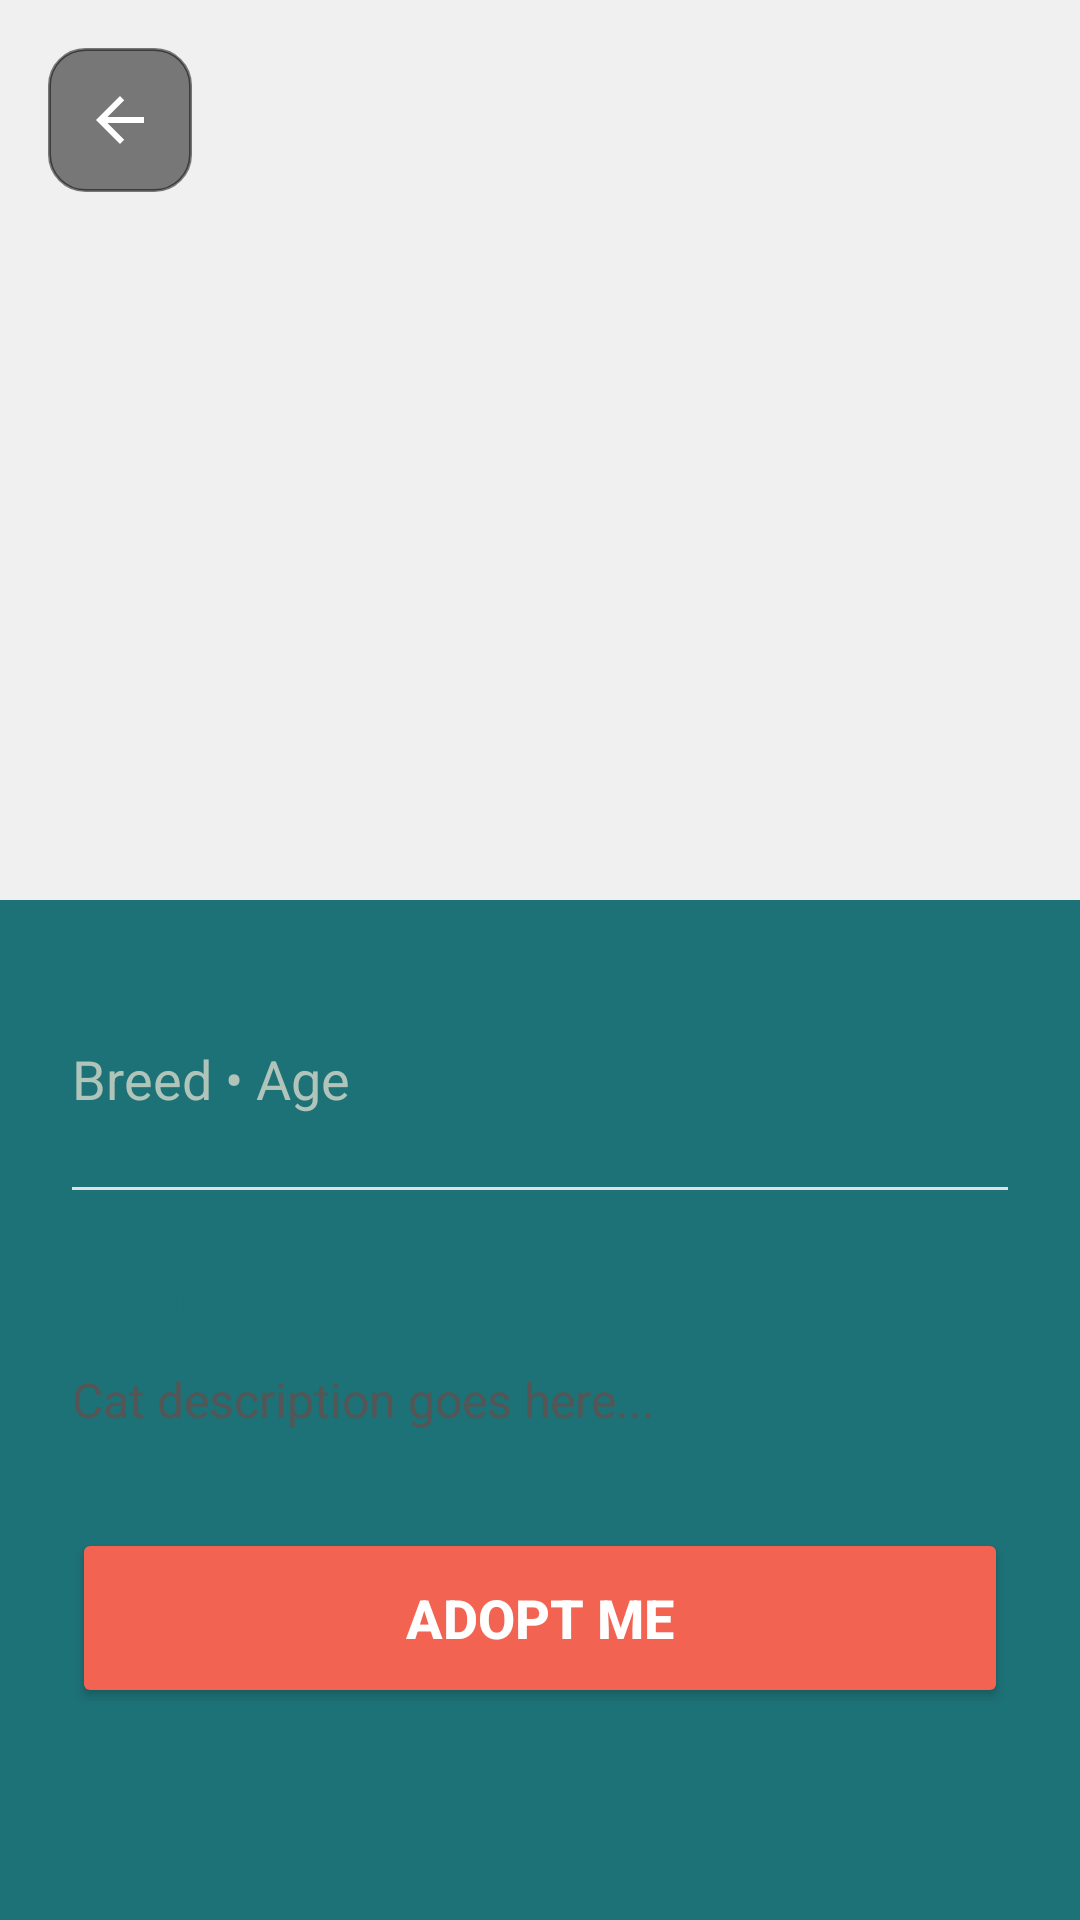

Where icons sit on this 1080px×1920px app screen, as (x1,y1,x2,y2):
ab back: (48,48,192,192)
